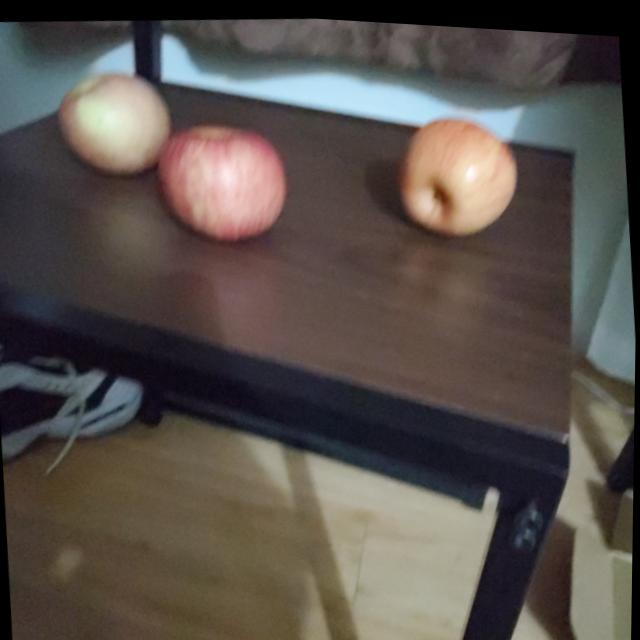apple: (155, 114, 292, 241), (396, 105, 522, 235), (56, 66, 177, 180)
